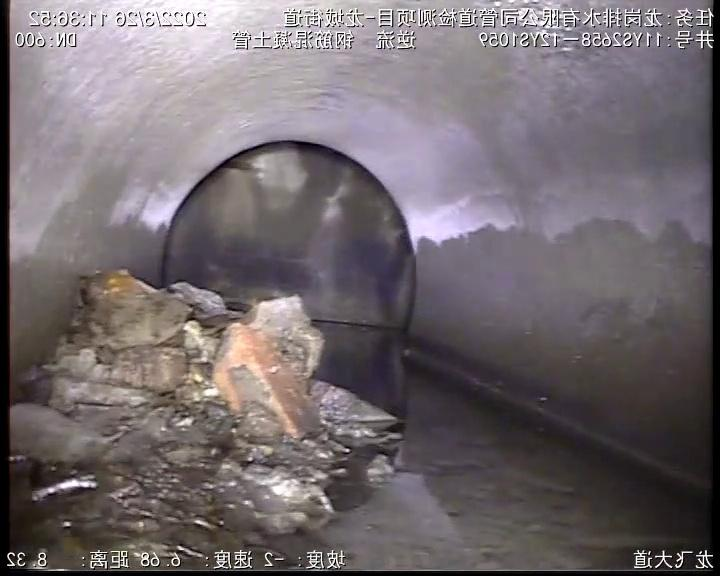ZAW: (12, 270, 402, 566)
